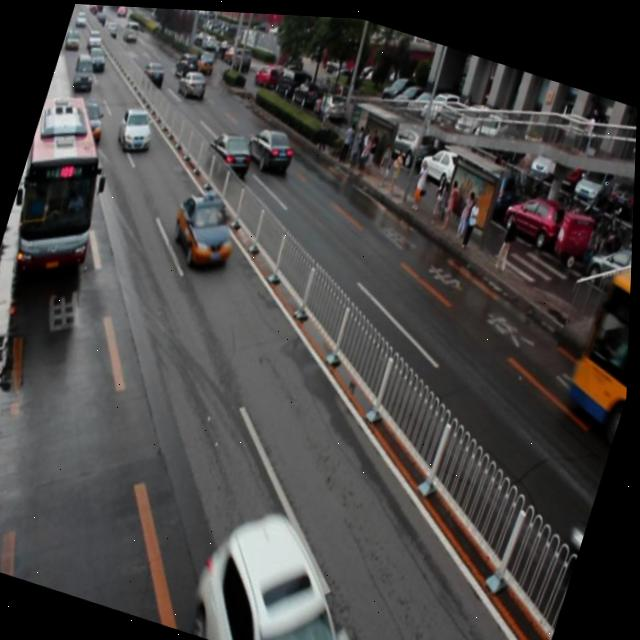car: (189, 491, 400, 640), (165, 180, 248, 275), (243, 119, 299, 176), (204, 125, 258, 174), (114, 101, 160, 155), (75, 96, 111, 140), (176, 66, 209, 99)
van: (0, 85, 131, 289), (556, 240, 634, 443)
